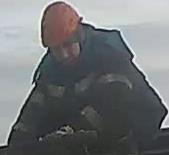helmet: (40, 1, 82, 49)
vest: (30, 31, 165, 146)
